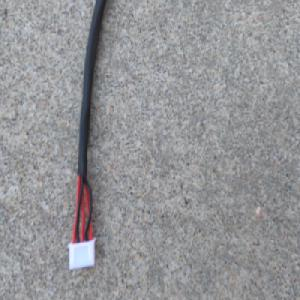Wire: (66, 0, 107, 274)
